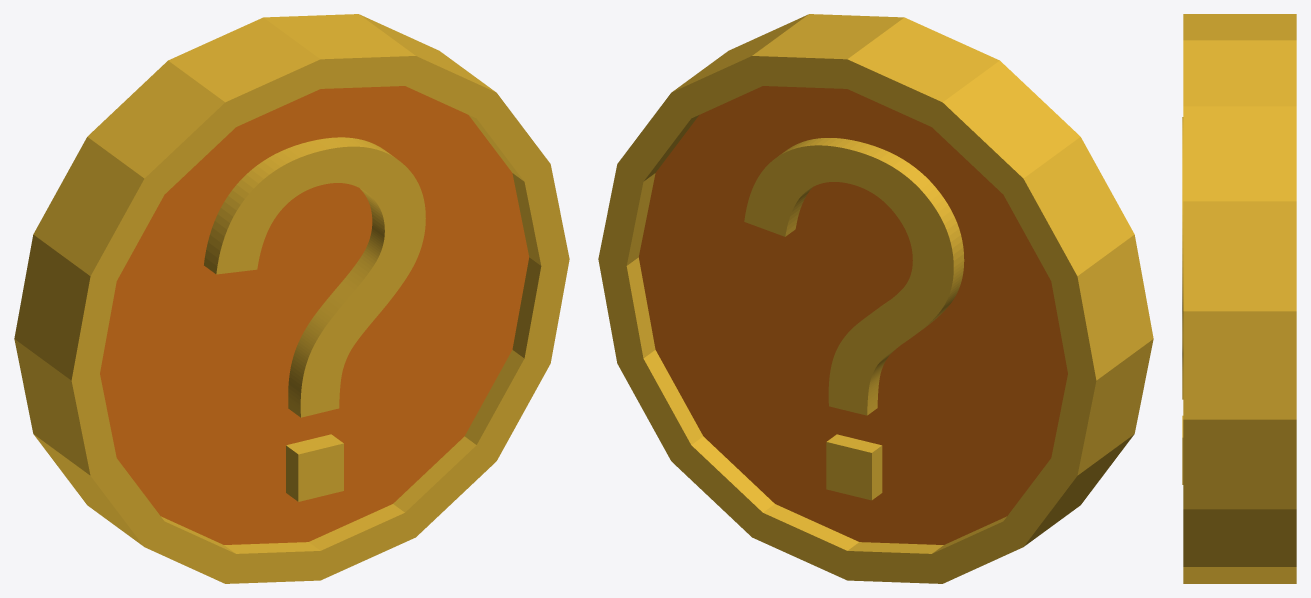
File: QuestionMark.fbx
3 views of the same model, side by side, from view 1: azimuth 30°, elevation 25°; view 2: azimuth 150°, elevation 25°; view 3: azimuth 270°, elevation 25° (orthographic).
Visible parts, largest first — view 1: QuestionMark; view 2: QuestionMark; view 3: QuestionMark.
Boxes of the visible parts, x1,y1,x2,y2 form: QuestionMark: [14, 14, 569, 583]; QuestionMark: [598, 14, 1153, 583]; QuestionMark: [1182, 14, 1296, 583].
Size of the model in its own units: 84.1 by 84.1 by 16.88.
